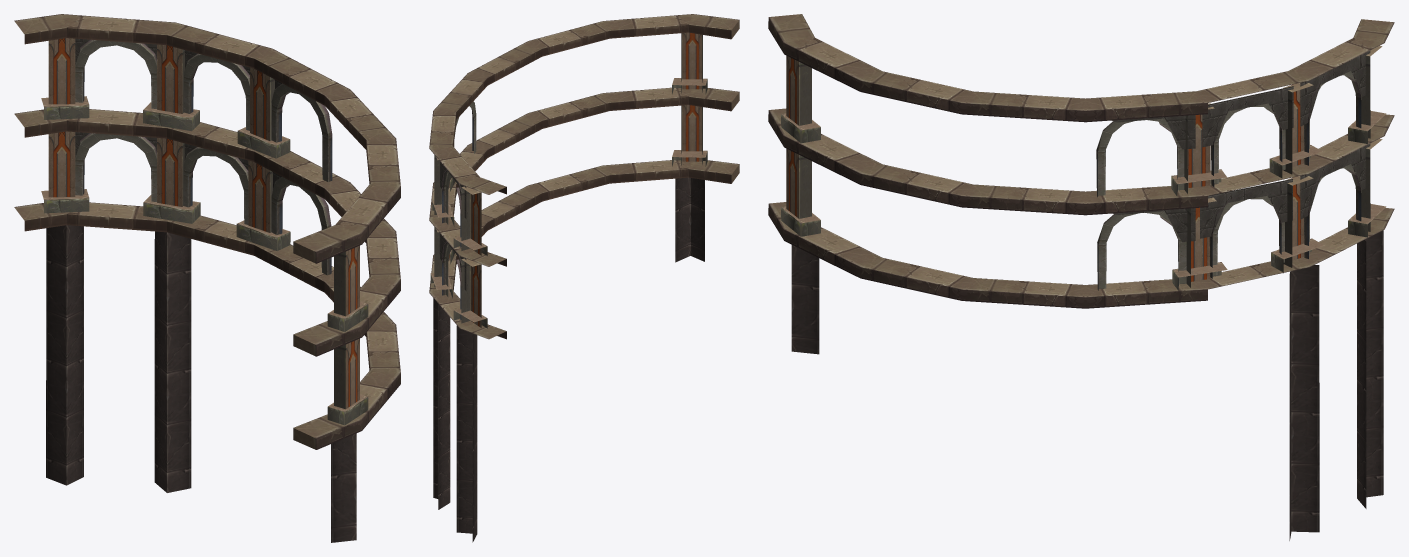
File: terrain_section03_guanka12_bj03.FBX
3 views of the same model, side by side, from view 1: azimuth 30°, elevation 25°; view 2: azimuth 150°, elevation 25°; view 3: azimuth 270°, elevation 25° (orthographic). The views are drawn at different scales.
Visible parts, largest first — view 1: terrain_section03_guanka12_bj03; view 2: terrain_section03_guanka12_bj03; view 3: terrain_section03_guanka12_bj03.
Boxes of the visible parts, x1,y1,x2,y2 form: terrain_section03_guanka12_bj03: (14,14,400,542); terrain_section03_guanka12_bj03: (429,14,739,542); terrain_section03_guanka12_bj03: (768,14,1394,540).
Size of the model in its own units: 13.53 by 29.88 by 36.89.
